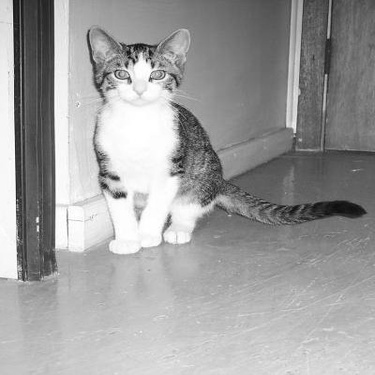cat: (53, 7, 360, 249)
